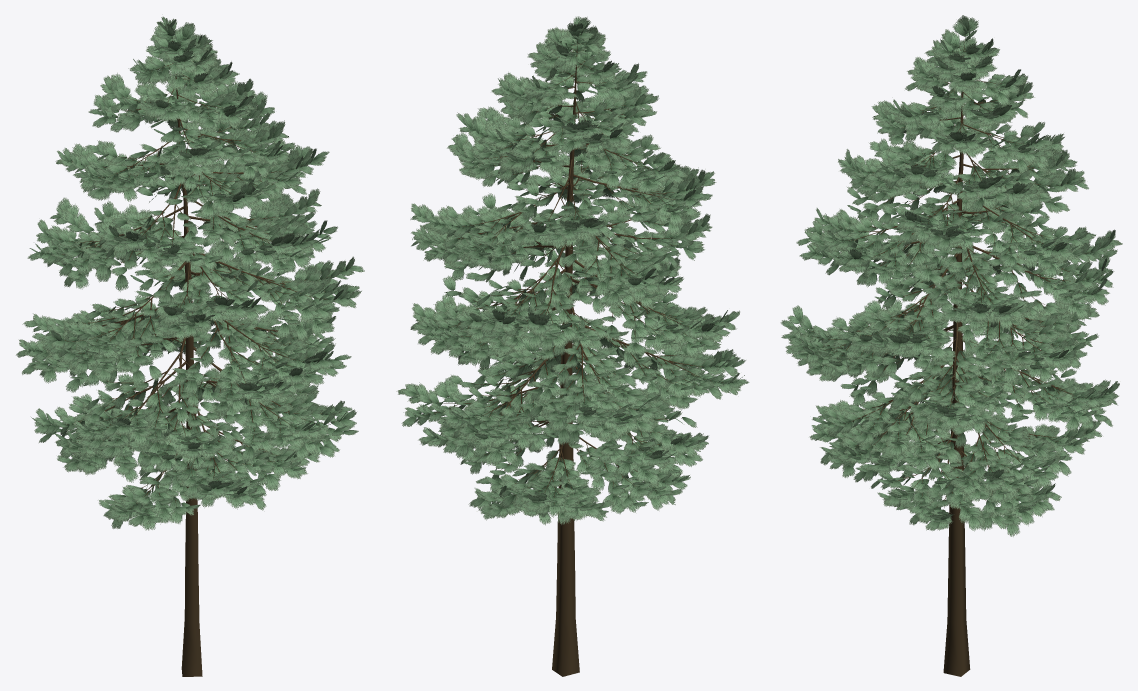
File: Pohon pinus.fbx
The picture shows the model from 3 angles, left to right: view 1: azimuth 30°, elevation 25°; view 2: azimuth 150°, elevation 25°; view 3: azimuth 270°, elevation 25°; orthographic projection. The views are drawn at different scales.
Visible parts, largest first — view 1: Pohon Cemara; view 2: Pohon Cemara; view 3: Pohon Cemara.
Boxes of the visible parts, x1,y1,x2,y2 form: Pohon Cemara: (16, 16, 364, 676); Pohon Cemara: (396, 16, 749, 676); Pohon Cemara: (780, 15, 1122, 676).
Bounding box in the file's own units: 2489 × 5162 × 2496.
